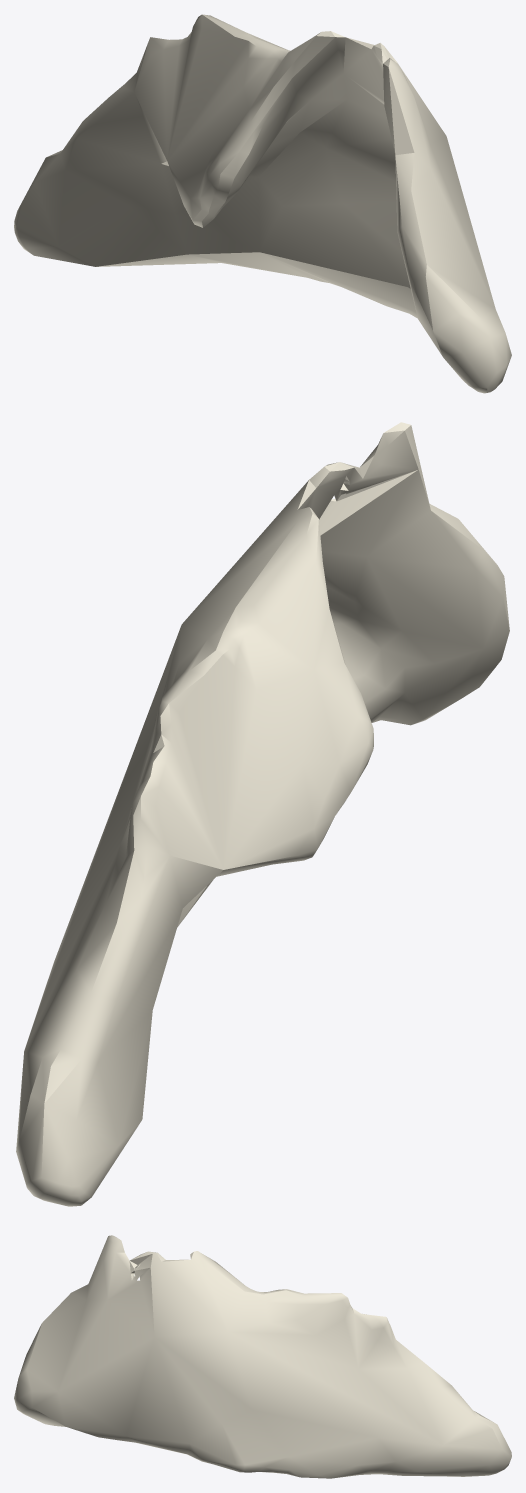
The model's file is fma54737_fj3369.glb.
3 views of the same model, one above another, from view 1: azimuth 30°, elevation 25°; view 2: azimuth 150°, elevation 25°; view 3: azimuth 270°, elevation 25° (orthographic). The views are drawn at different scales.
Parts seen in each view (by area): view 1: FMA54737_FJ3369; view 2: FMA54737_FJ3369; view 3: FMA54737_FJ3369.
Part boxes in pixels (x1,y1,x2,y2): FMA54737_FJ3369: [14, 14, 511, 393]; FMA54737_FJ3369: [16, 422, 509, 1206]; FMA54737_FJ3369: [14, 1235, 511, 1478].
Bounding box in the file's own units: 0.00984 × 0.02 × 0.0364.
